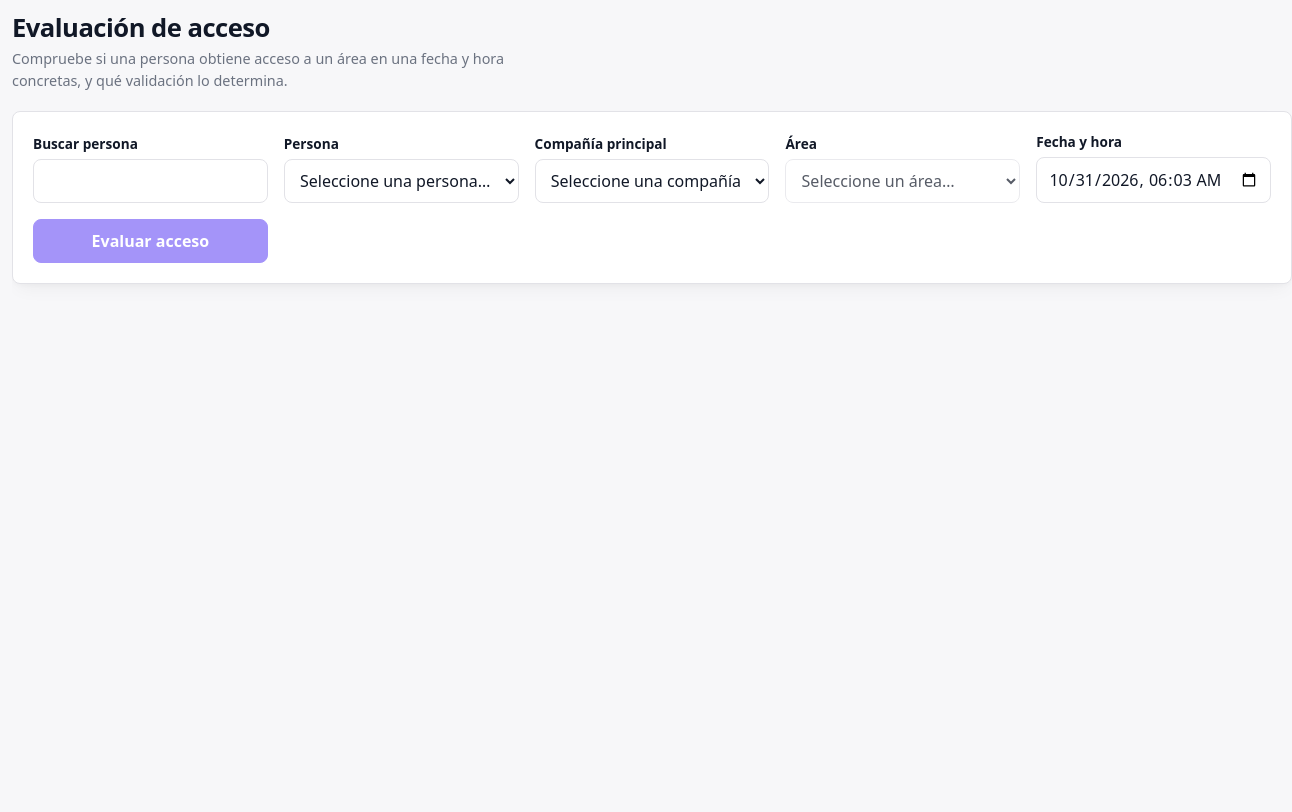
Test: EvaluacionAccesoPage › muestra la denegación por falta de credencial vigente y qué quedó sin evaluar
Select "Pérez, Ana — 12345678" in the dropdown labelled "Persona". click: {"x": 401, "y": 181}
box: [284, 159, 519, 203]
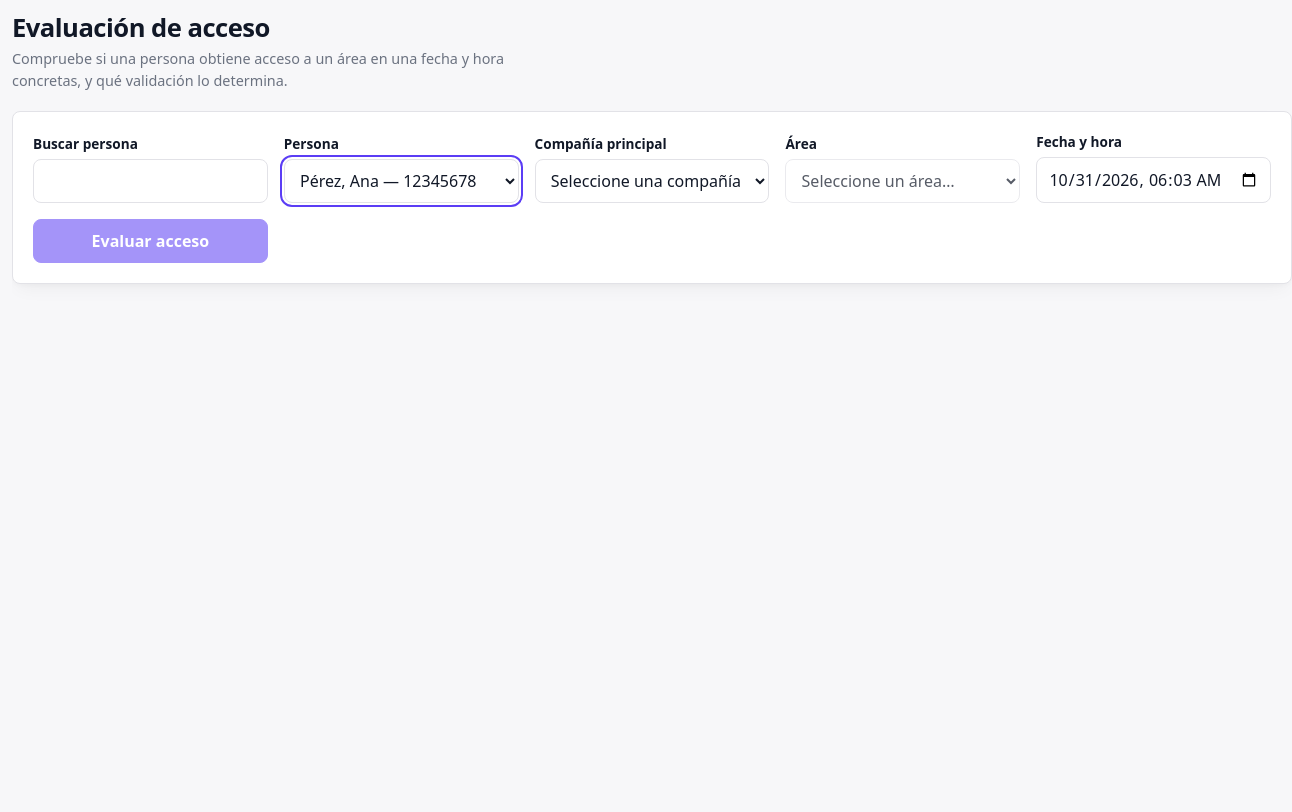
Select "Minera Norte" in the dropdown labelled "Compañía principal". click: {"x": 652, "y": 181}
box: [535, 159, 769, 203]
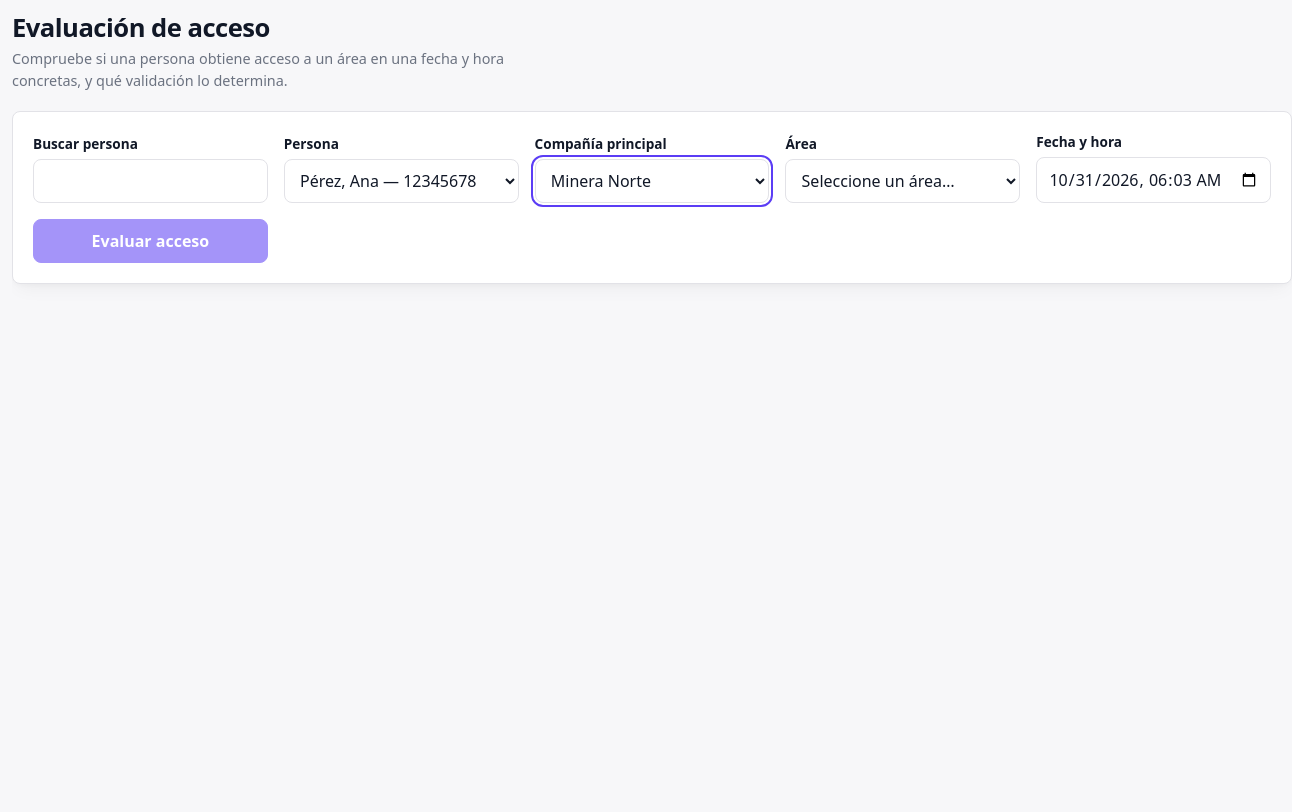
Select "Planta" in the dropdown labelled "Área". click: {"x": 903, "y": 181}
box: [785, 159, 1020, 203]
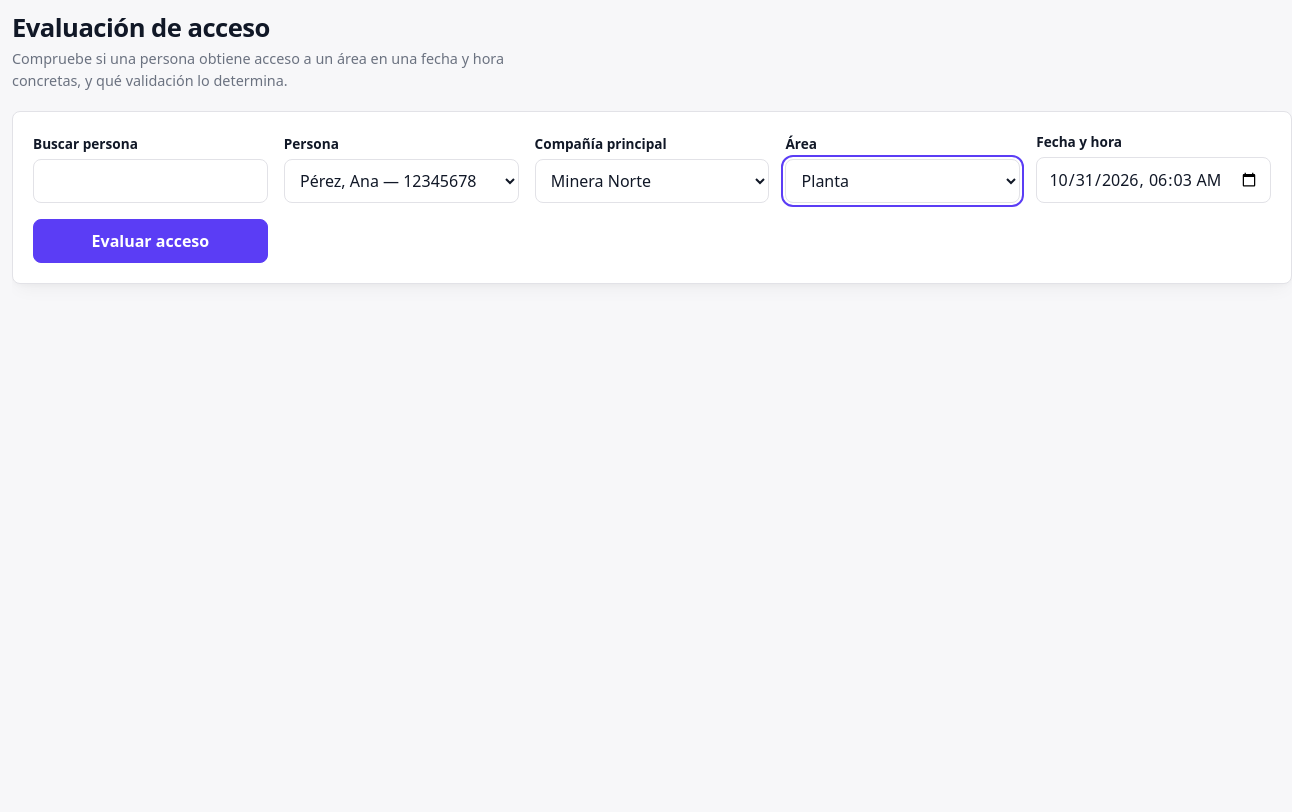
Replace the text in the field labelled "Fecha y hora" with "2026-09-16T09:00". click: {"x": 1154, "y": 180}
box: [1036, 157, 1271, 203]
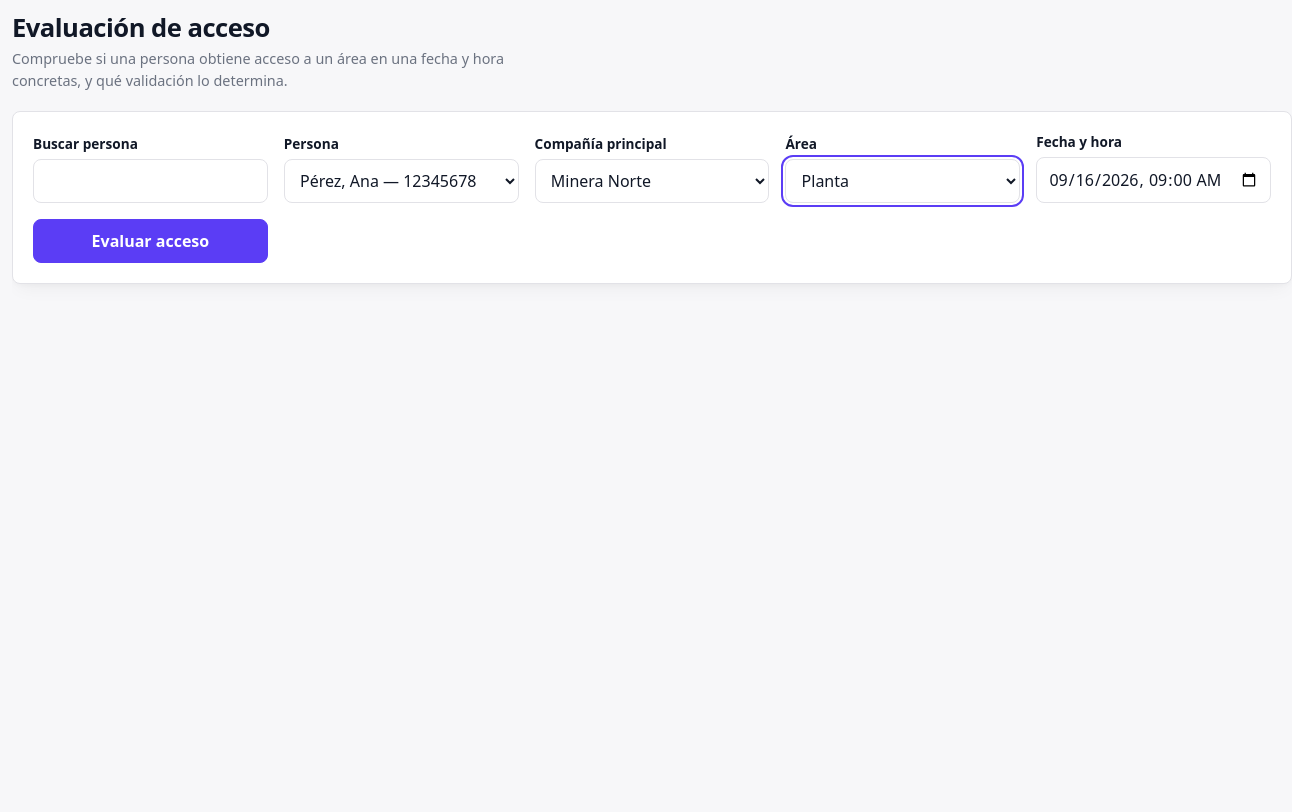
Click the button "Evaluar acceso". click: {"x": 150, "y": 241}
box: [33, 219, 268, 263]
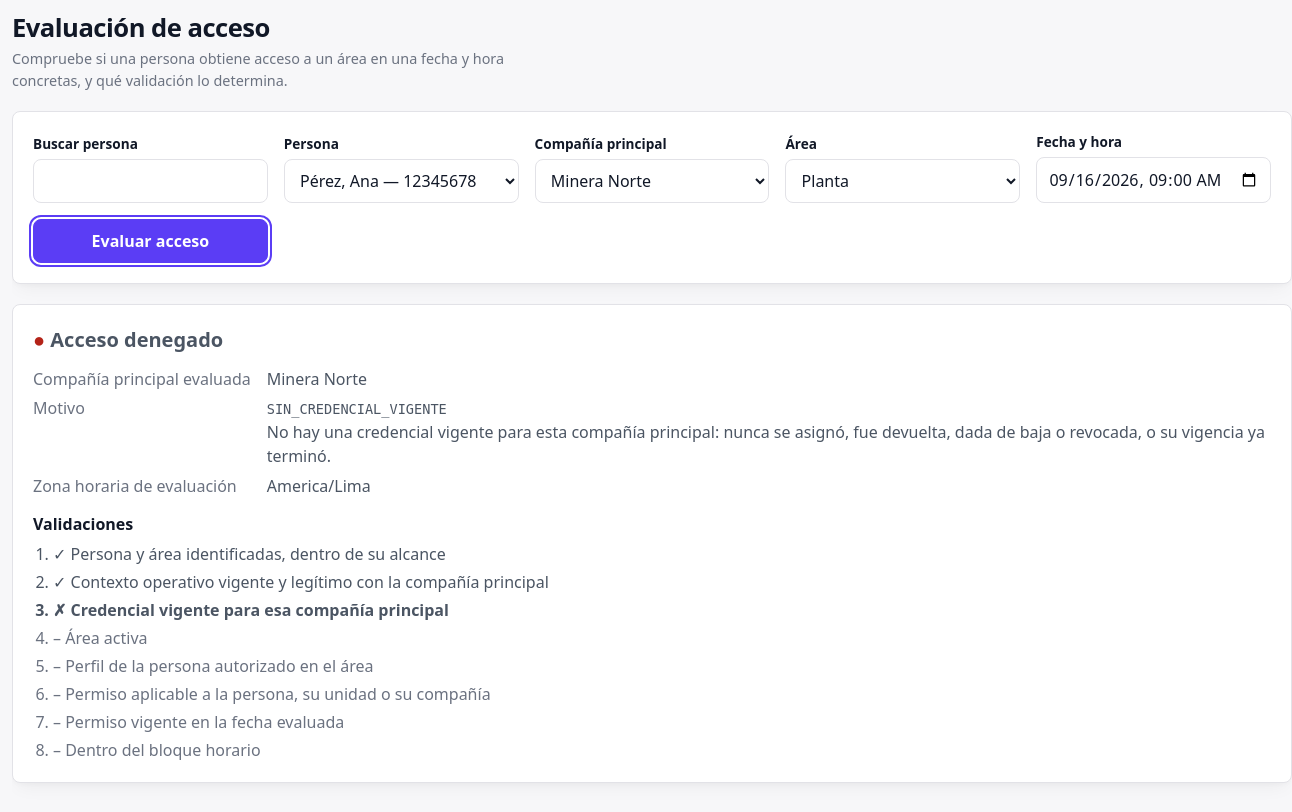
Expected: the text "Acceso denegado" is shown, [50, 326, 223, 353]
Expected: the text "SIN_CREDENCIAL_VIGENTE" is shown, [267, 401, 447, 417]
Expected: the text "nunca se asignó, fue devuelta, dada de baja o revocada" is shown, [267, 421, 1265, 467]
